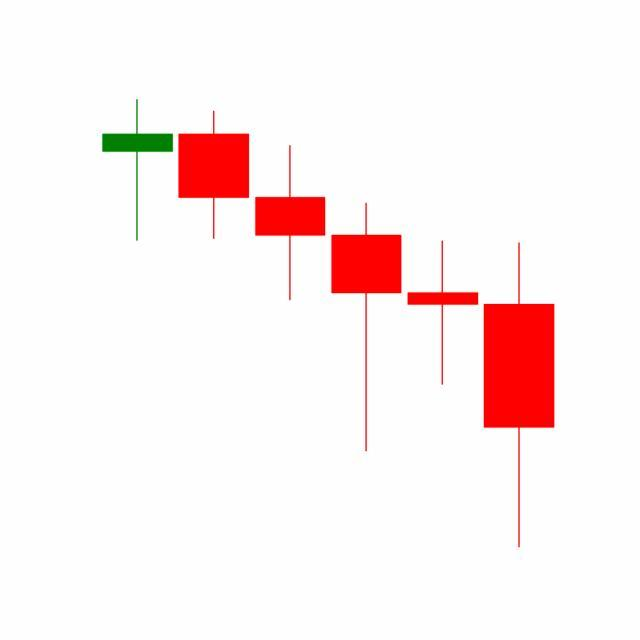Spinning Top: (404, 239, 482, 387)
